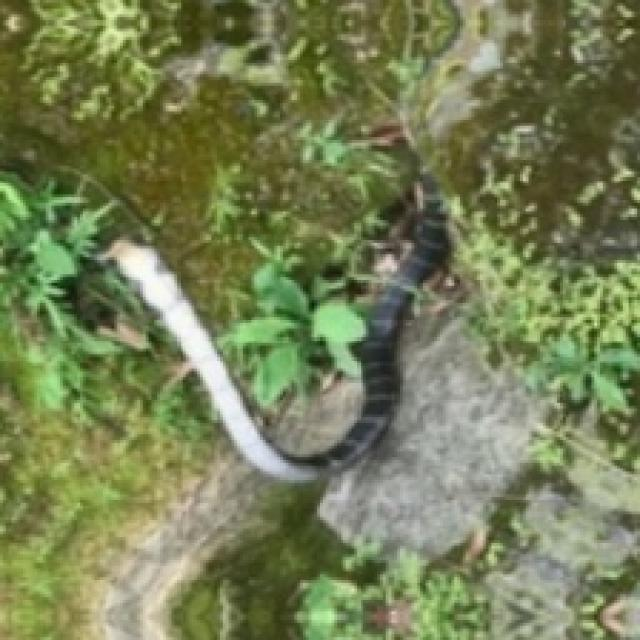king cobra: (103, 174, 446, 480)
